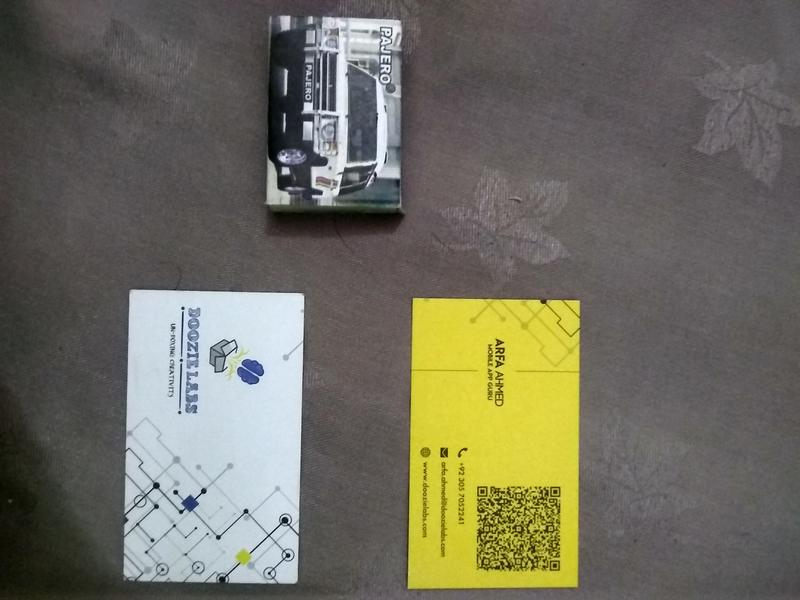back: (128, 290, 302, 584)
front: (411, 298, 578, 588)
pajero: (266, 15, 402, 211)
